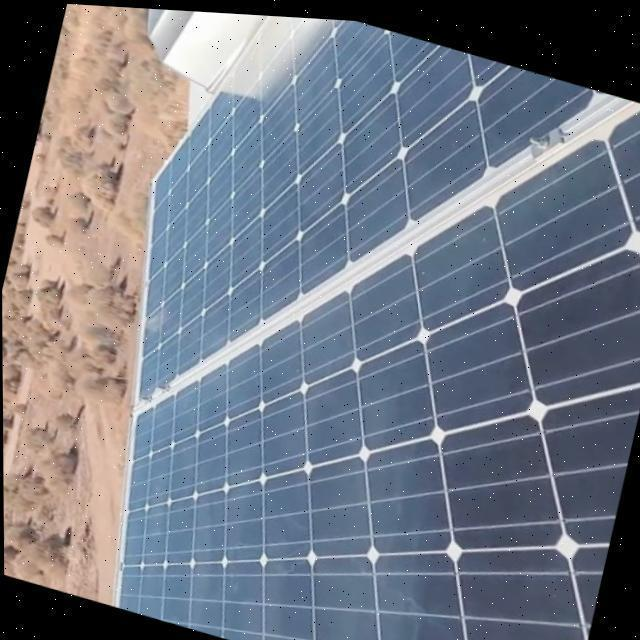Normal Solar Panel: (54, 3, 640, 640)
